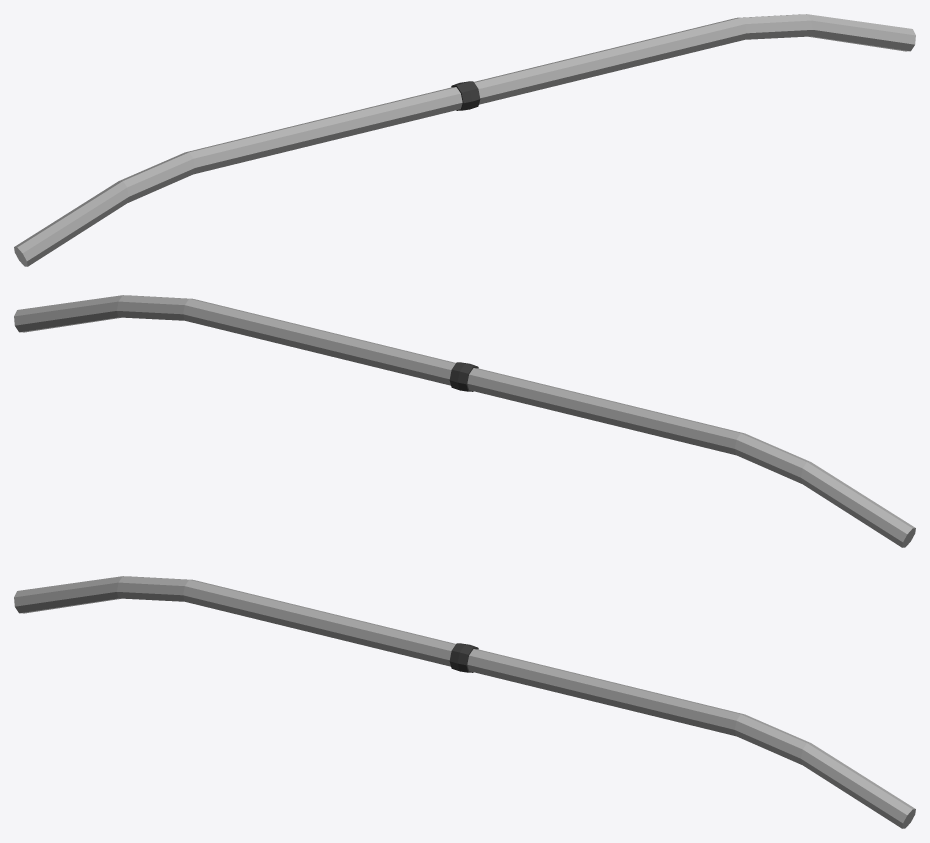
File: PullDown_Ac_1.fbx
The picture shows the model from 3 angles, top to bottom: view 1: azimuth 30°, elevation 25°; view 2: azimuth 150°, elevation 25°; view 3: azimuth 330°, elevation 25°; orthographic projection.
Visible parts, largest first — view 1: PullDown_Ac_1; view 2: PullDown_Ac_1; view 3: PullDown_Ac_1.
Boxes of the visible parts, box(x1,y1,x2,y2) form: PullDown_Ac_1: box(14, 14, 915, 266); PullDown_Ac_1: box(14, 295, 915, 547); PullDown_Ac_1: box(14, 576, 915, 828).
Bounding box in the file's own units: 131 × 10.66 × 3.75.
